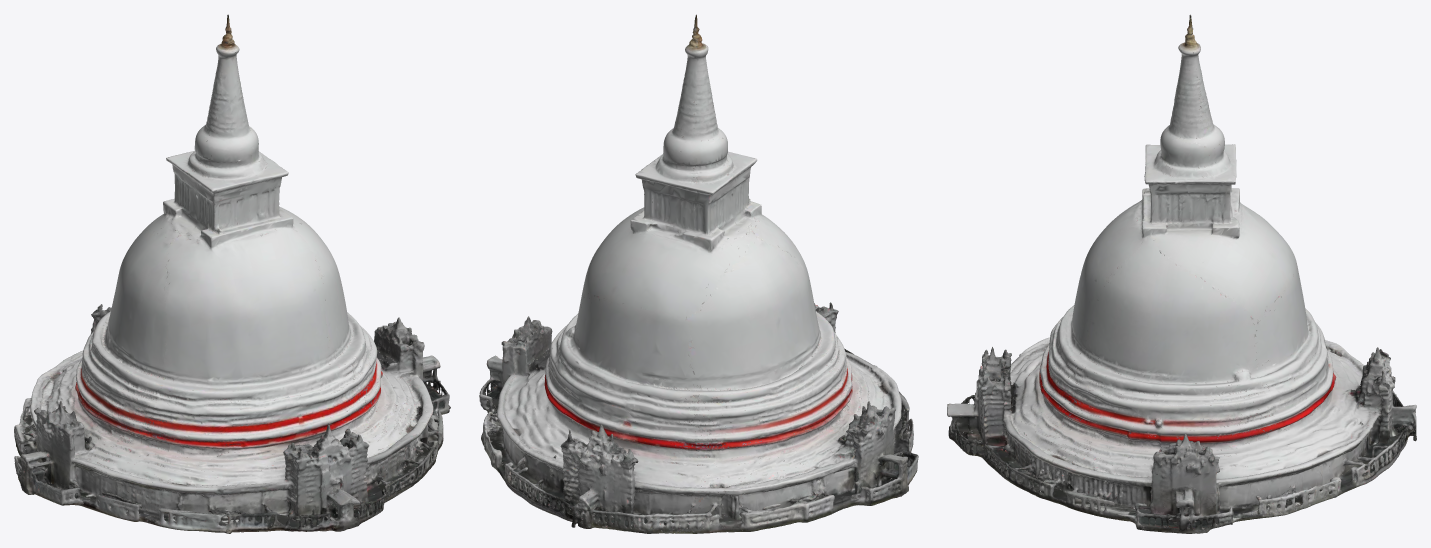
File: tempimg.glb
The picture shows the model from 3 angles, left to right: view 1: azimuth 30°, elevation 25°; view 2: azimuth 150°, elevation 25°; view 3: azimuth 270°, elevation 25°; orthographic projection. The views are drawn at different scales.
Size of the model in its own units: 2 by 1.98 by 1.99.
1 material, 1 textured.
